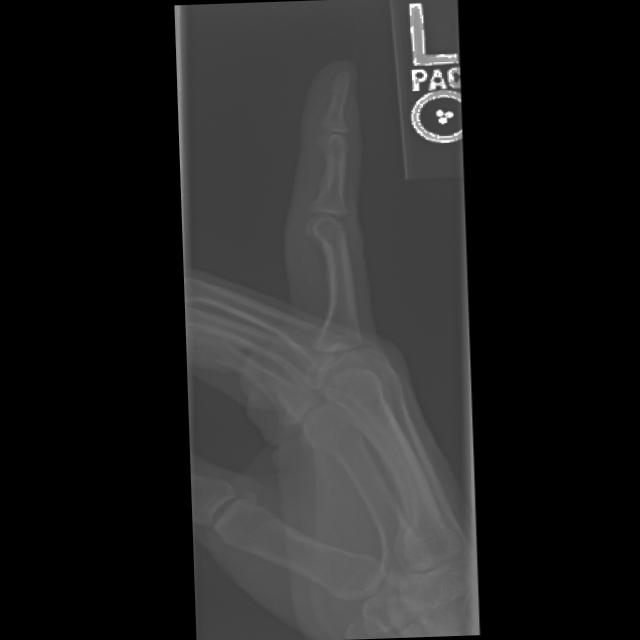fingers positive: (314, 134, 358, 167)
